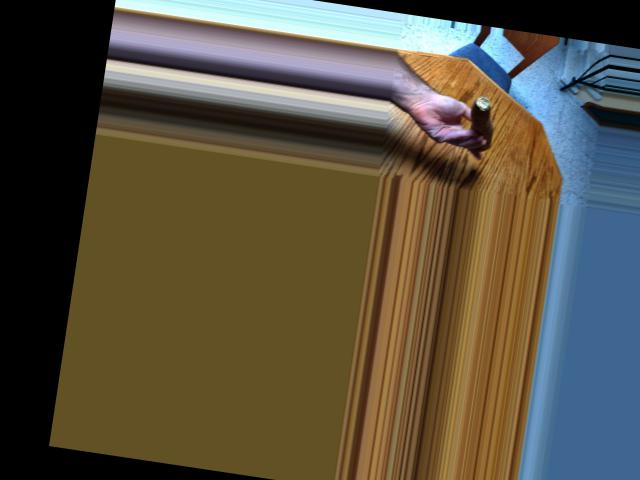sweet_potato: (473, 102, 498, 153)
